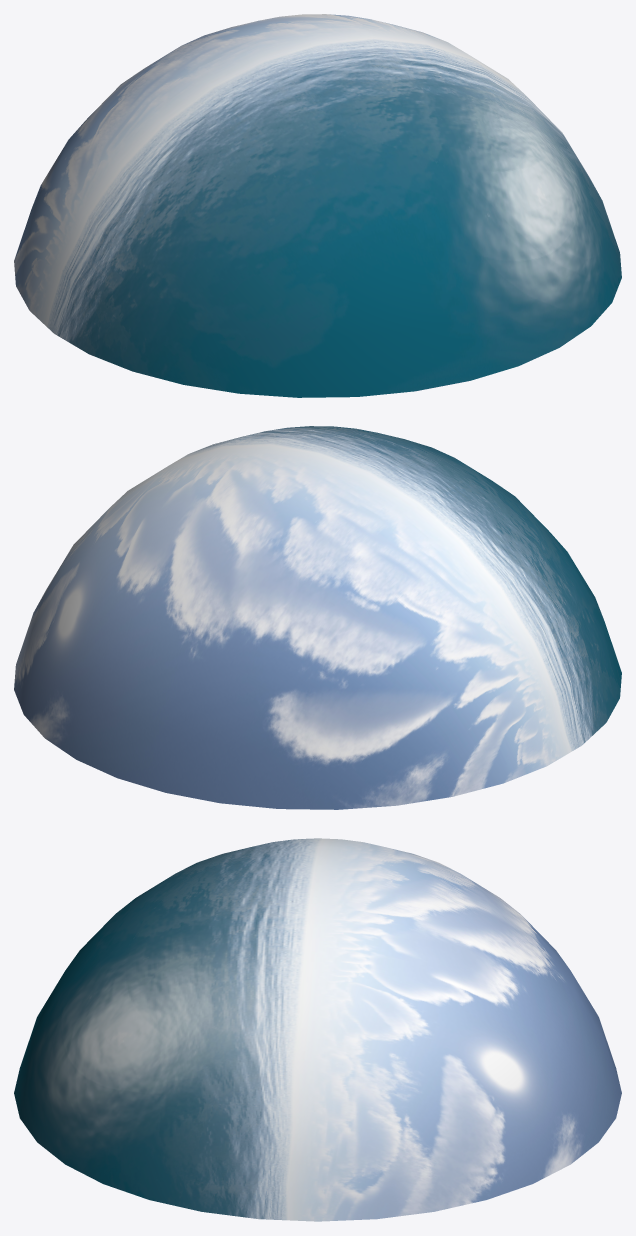
Rendered from skys.obj.
3 views of the same model, one above another, from view 1: azimuth 30°, elevation 25°; view 2: azimuth 150°, elevation 25°; view 3: azimuth 270°, elevation 25° (orthographic).
Visible parts, largest first — view 1: sky_球; view 2: sky_球; view 3: sky_球.
Part boxes in pixels (x1,y1,x2,y2): sky_球: (14,14,621,397); sky_球: (14,426,621,809); sky_球: (14,838,621,1221).
Size of the model in its own units: 1.96 by 0.8049 by 1.96.
1 material, 1 textured.
